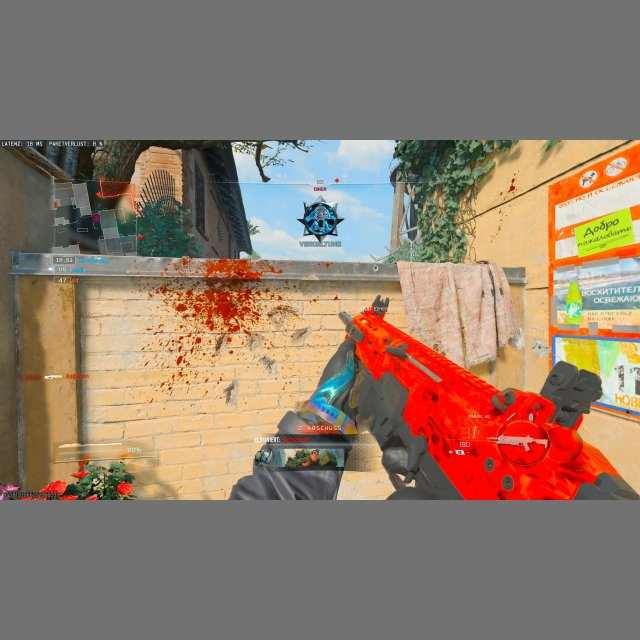player: (300, 200, 344, 242)
